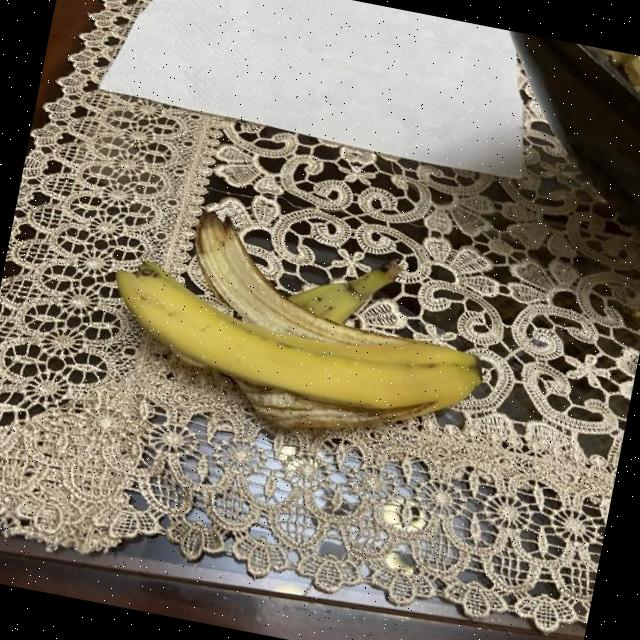banana-peel: (91, 193, 505, 464)
